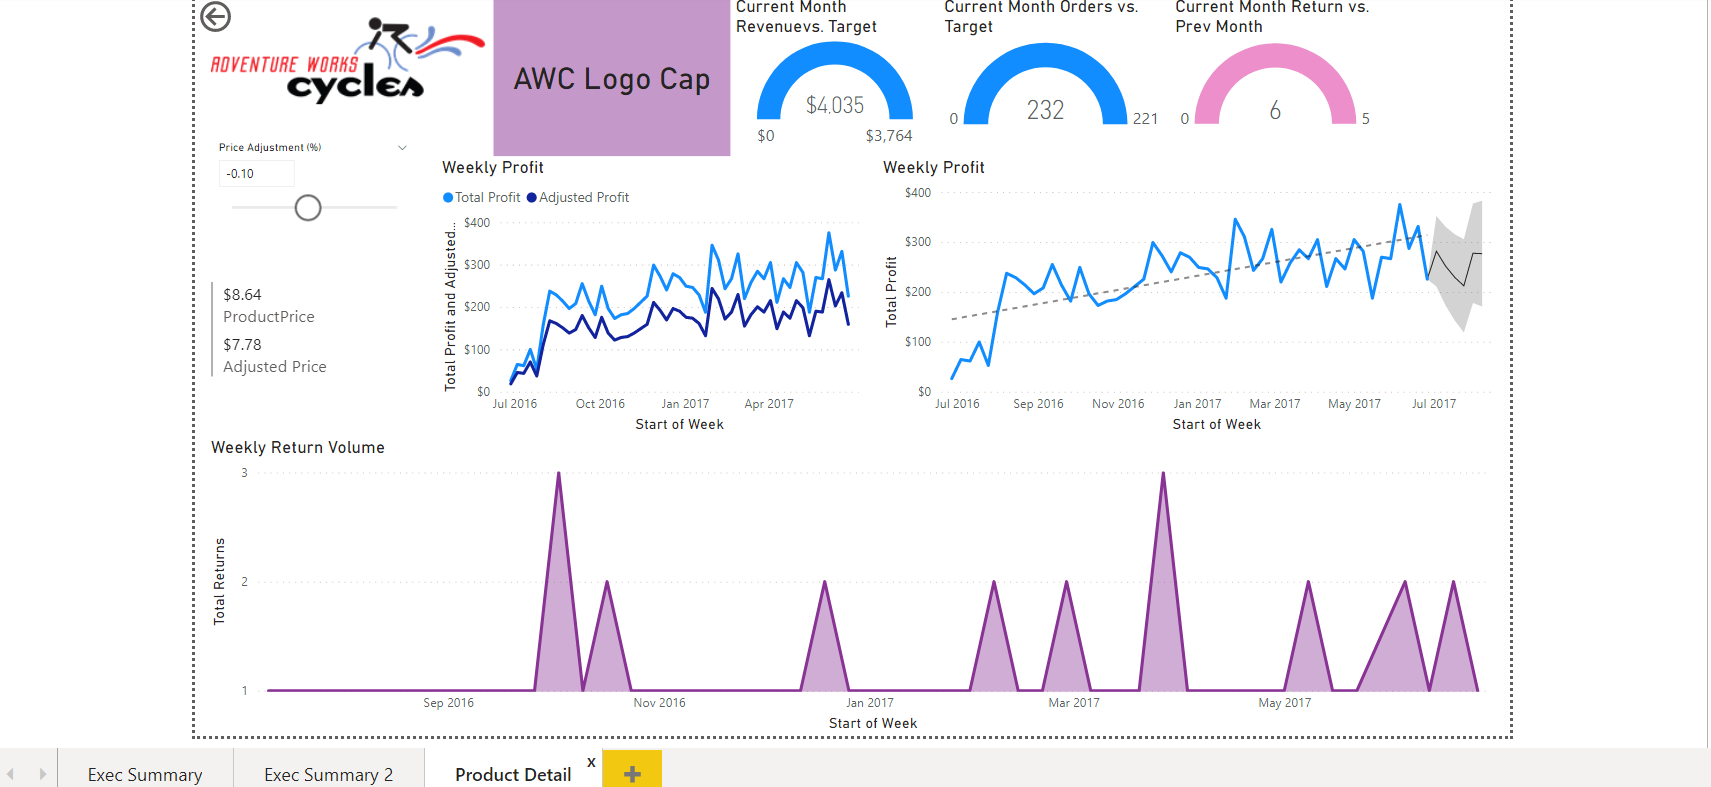

Layout of this report page (visuals, bound fields, positions):
{"tool":"powerbi","page":{"name":"Product Detail","canvas":[1280,720],"ordinal":2},"visuals":[{"type":"image","box":[10.6,0,280.6,125.9],"z":0},{"type":"lineChart","title":"Weekly Profit","fields":{"Y":["AW_Sales.Total Profit"],"Category":["AW_Calendar_Lookup.Start of Week"]},"box":[664.3,156.2,615.7,273],"z":1000},{"type":"areaChart","title":"Weekly Return Volume","fields":{"Category":["AW_Calendar_Lookup.Start of Week"],"Y":["AW_Returns.Total Returns"]},"box":[10.6,429.2,1269.4,291.2],"z":2000},{"type":"gauge","title":"Current Month Orders vs. Target","fields":{"Y":["AW_Sales.Total Orders"],"MaxValue":["AW_Sales.Order Target"]},"box":[724.9,0,224.5,136.5],"z":3000},{"type":"gauge","title":"Current Month Revenuevs. Target","fields":{"Y":["AW_Sales.Total Revenue"],"MaxValue":["AW_Sales.Revenue Target"]},"box":[521.7,0,203.2,156.2],"z":4000},{"type":"gauge","title":"Current Month Return vs. Prev Month","fields":{"Y":["AW_Returns.Total Returns"],"MaxValue":["AW_Sales.Prev Month Return"]},"box":[949.4,0,204.7,136.5],"z":5000},{"type":"card","fields":{"Values":["Min(AW_Product_Lookup.ProductName)"]},"box":[291.2,0,230.5,156.2],"z":6000},{"type":"actionButton","box":[0,0,100,40],"z":7000},{"type":"slicer","fields":{"Values":["Price Adjustment (%).Price Adjustment (%)"]},"box":[10.6,136.5,209.3,136.5],"z":7001},{"type":"lineChart","title":"Weekly Profit","fields":{"Y":["AW_Sales.Total Profit","AW_Sales.Adjusted Profit"],"Category":["AW_Calendar_Lookup.Start of Week"]},"box":[235.1,156.2,430.7,273],"z":7002},{"type":"multiRowCard","fields":{"Values":["Sum(AW_Product_Lookup.ProductPrice)","AW_Product_Lookup.Adjusted Price"]},"box":[10.6,273,209.3,156.2],"z":7003}]}

Visuals, with their boxes on the page's 1280x720 design canvas (x1, y1, x2, y2). These are canvas units, not pixel positions in the 1711x787 screenshot, which may show the page scaled, cropped or inside an application window:
image: locate(11, 0, 291, 126)
"Weekly Profit" lineChart: locate(664, 156, 1280, 429)
"Weekly Return Volume" areaChart: locate(11, 429, 1280, 720)
"Current Month Orders vs. Target" gauge: locate(725, 0, 949, 136)
"Current Month Revenuevs. Target" gauge: locate(522, 0, 725, 156)
"Current Month Return vs. Prev Month" gauge: locate(949, 0, 1154, 136)
card - Min(AW_Product_Lookup.ProductName): locate(291, 0, 522, 156)
actionButton: locate(0, 0, 100, 40)
slicer - Price Adjustment (%).Price Adjustment (%): locate(11, 136, 220, 273)
"Weekly Profit" lineChart: locate(235, 156, 666, 429)
multiRowCard - Sum(AW_Product_Lookup.ProductPrice) x AW_Product_Lookup.Adjusted Price: locate(11, 273, 220, 429)
